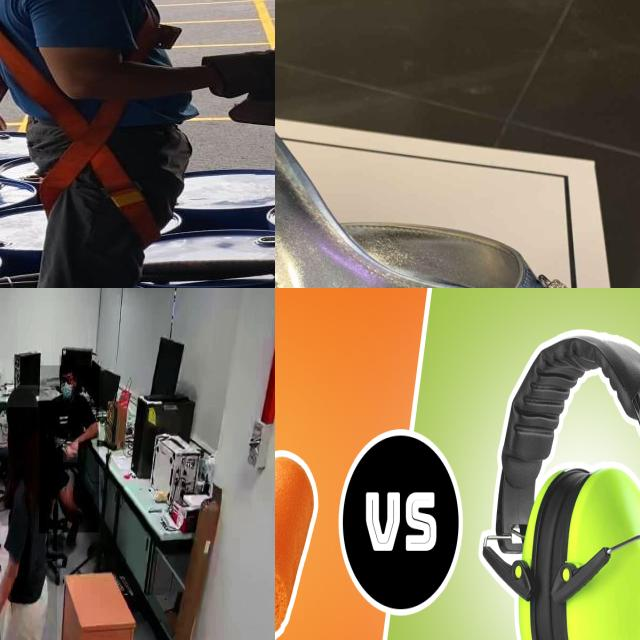Ear-protection: (563, 463, 640, 640), (516, 467, 569, 640)
Harness: (0, 0, 167, 245)
Sandals: (275, 59, 640, 288)
face_mask: (59, 374, 75, 400)
hand_noglove: (63, 442, 78, 463), (67, 438, 79, 458)
head_nohelmet: (6, 385, 38, 408), (60, 356, 76, 374)
person: (0, 388, 57, 640), (39, 366, 99, 534)
